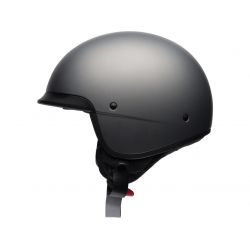with_helmet: (35, 27, 215, 170)
